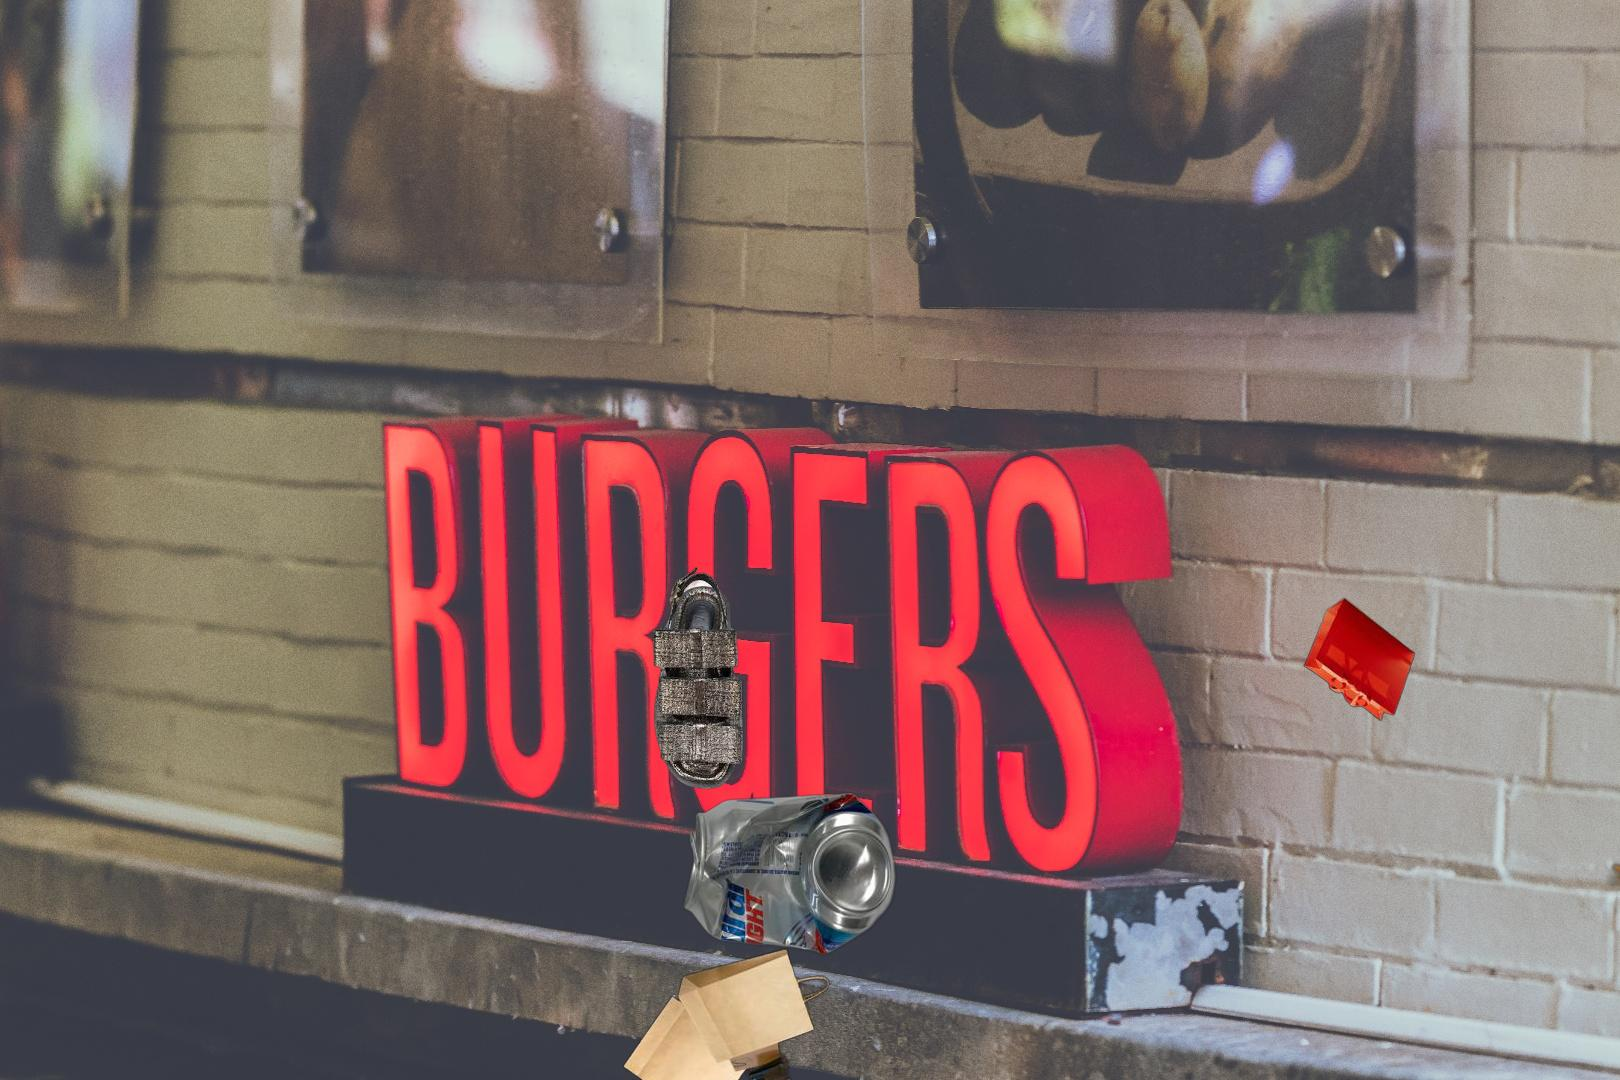biological: (1600, 610, 1620, 1080)
metal-cans: (677, 790, 900, 958)
paper-bag: (620, 946, 834, 1080), (1301, 597, 1417, 724)
shoes: (650, 564, 746, 792)
